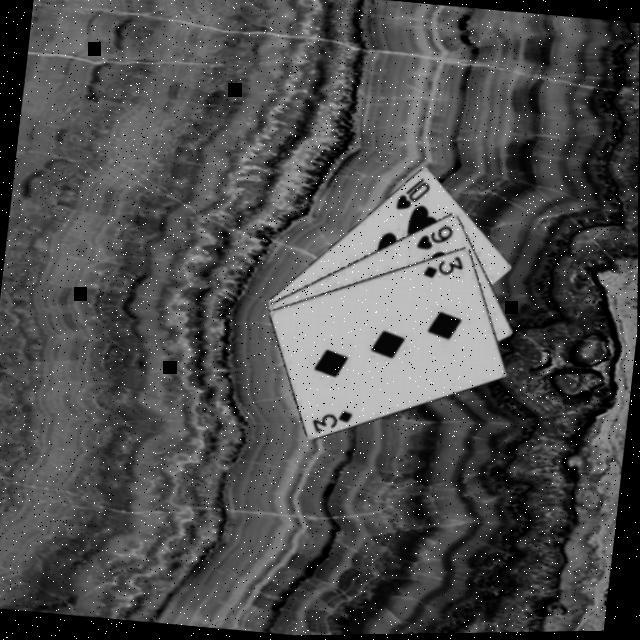10H: (392, 172, 434, 214)
3D: (309, 402, 357, 438), (421, 249, 468, 285)
9H: (414, 219, 457, 256)
